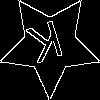K: (25, 20, 69, 73)
